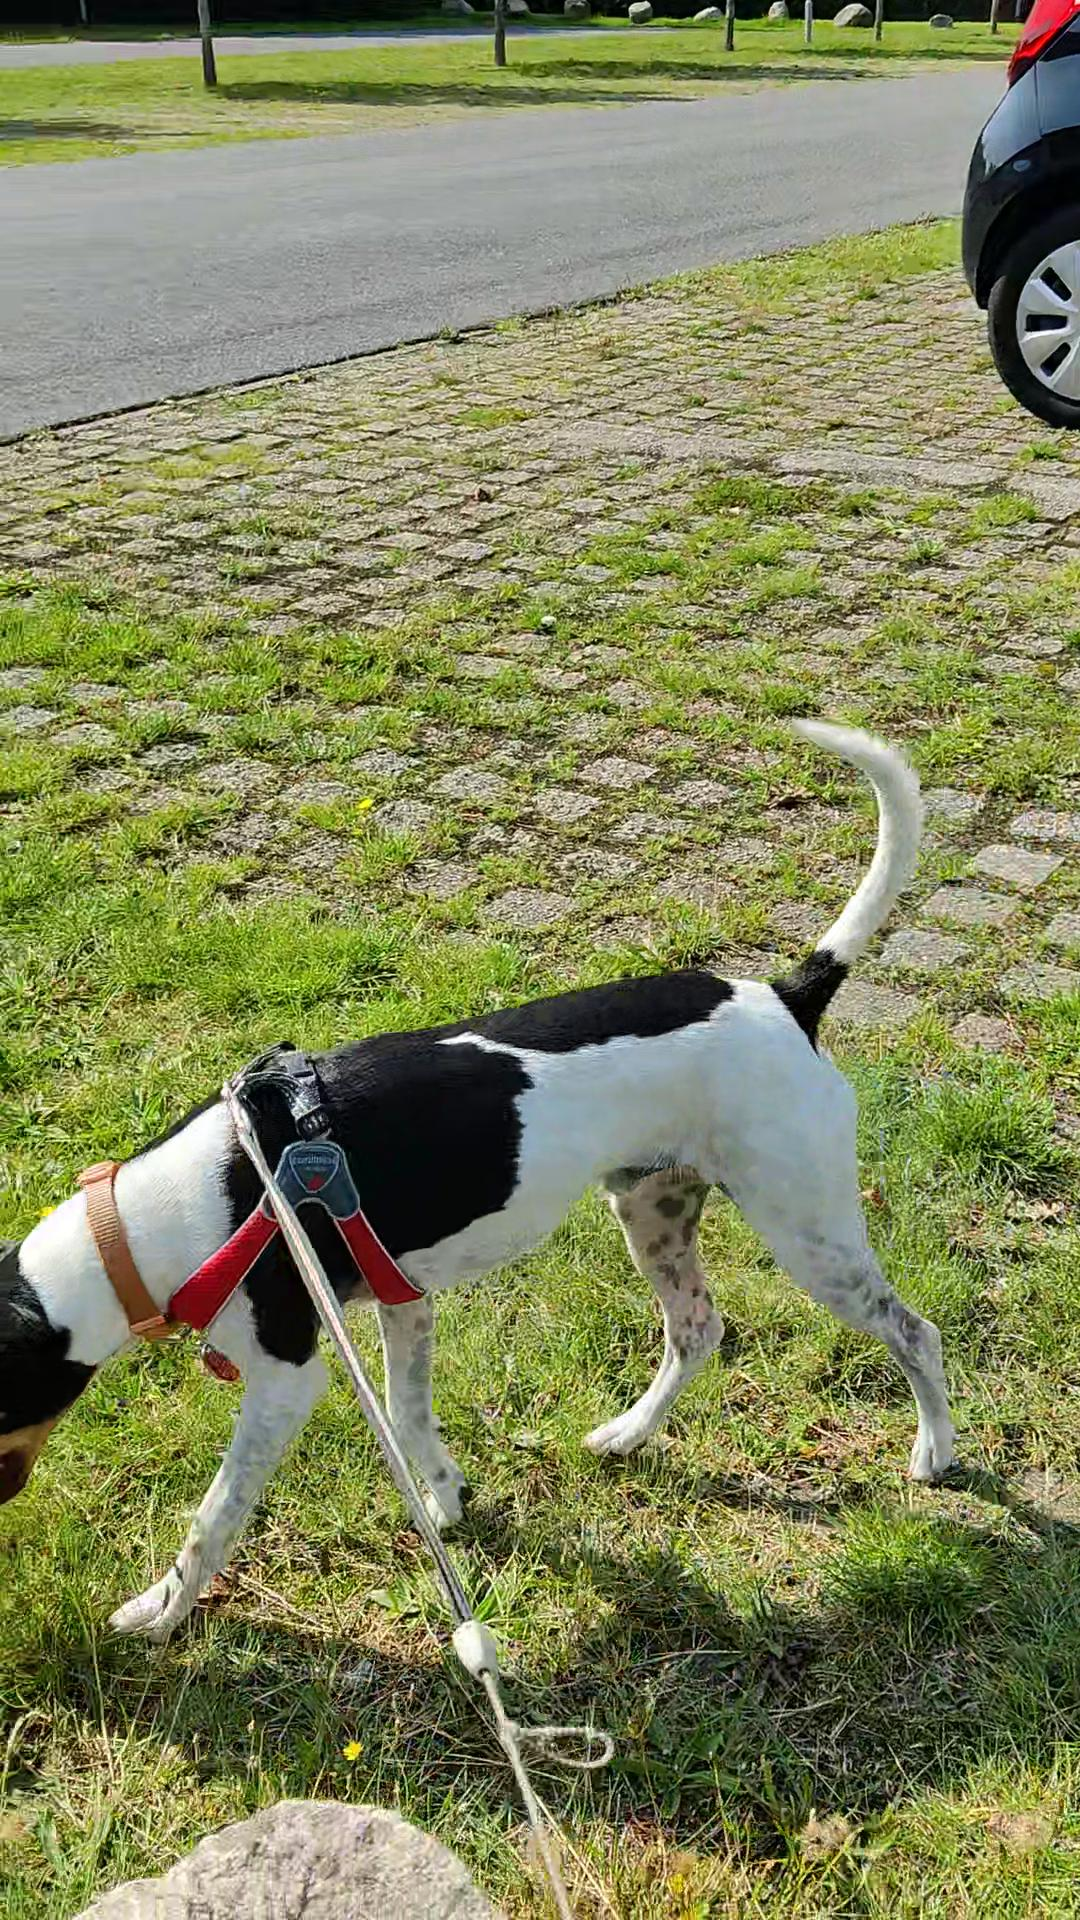Dog: (0, 676, 1017, 1643)
